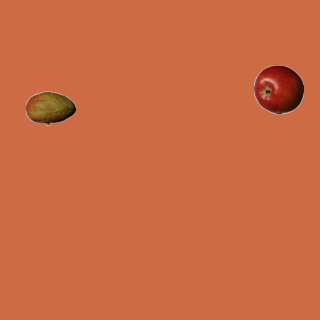Apple Braeburn: (253, 64, 303, 114)
Papaya: (25, 83, 75, 133)
